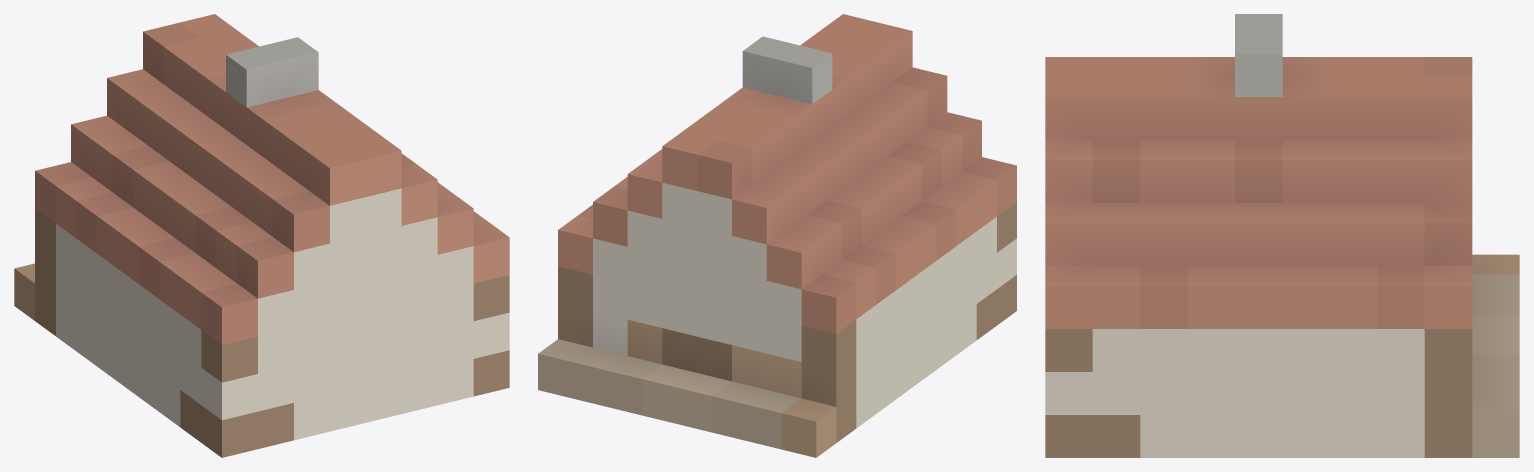
File: meadery.lite.glb
3 renders of one model, left to right at view 1: azimuth 30°, elevation 25°; view 2: azimuth 150°, elevation 25°; view 3: azimuth 270°, elevation 25°, orthographic. The views are drawn at different scales.
Visible parts, largest first — view 1: meadery; view 2: meadery; view 3: meadery.
Boxes of the visible parts, x1=… form: meadery: x1=14, y1=14, x2=509, y2=457; meadery: x1=538, y1=14, x2=1016, y2=457; meadery: x1=1045, y1=14, x2=1519, y2=457.
Bounding box in the file's own units: 4 × 4 × 5.
